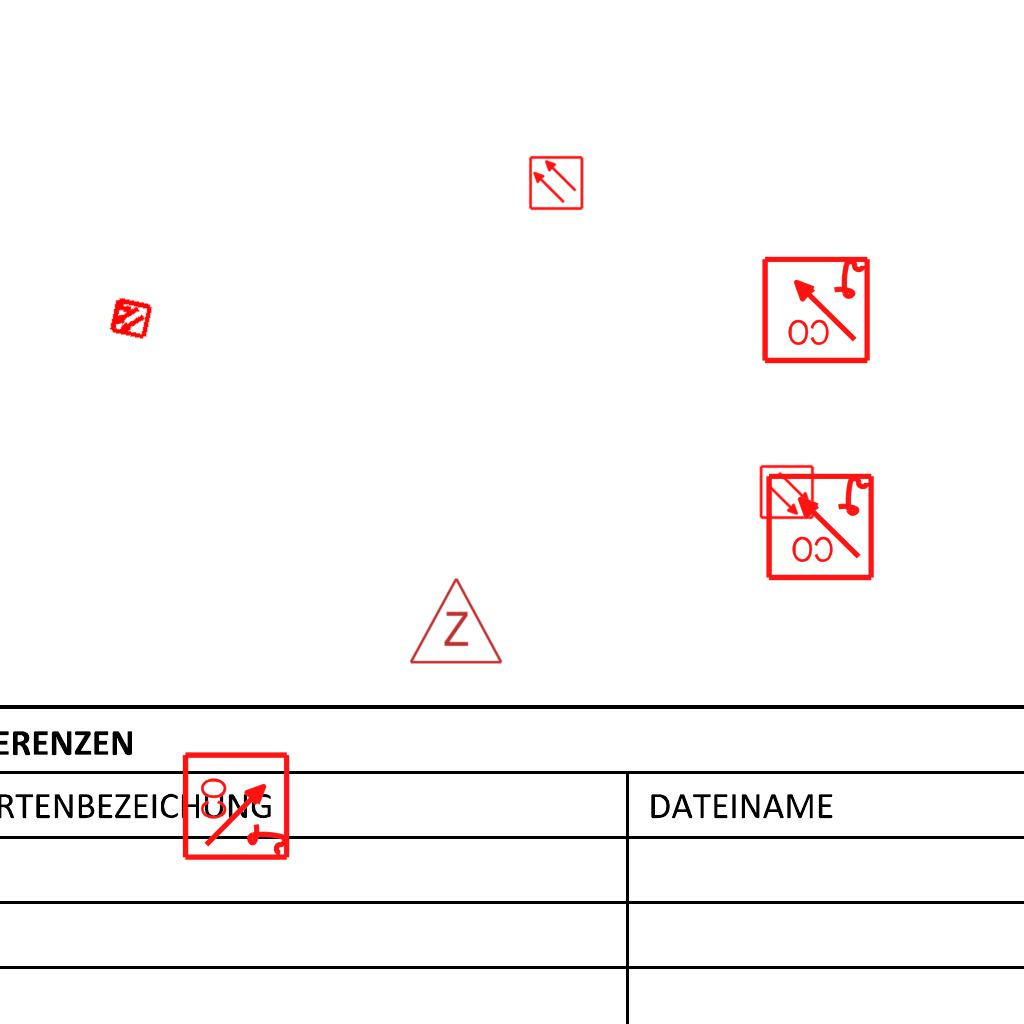OT_Multisensormelder_(Kombination_RMO_WMD): (96, 284, 164, 352)
RMO_Rauchmelder_optischer: (759, 464, 815, 520), (528, 155, 584, 211)
ROA_Rauchmelder_optisch_mit_Signalgeber_(Sockelsirene): (759, 252, 872, 365), (181, 749, 294, 862), (763, 469, 876, 582)
Zimmersignalleuchte: (406, 571, 504, 671)
